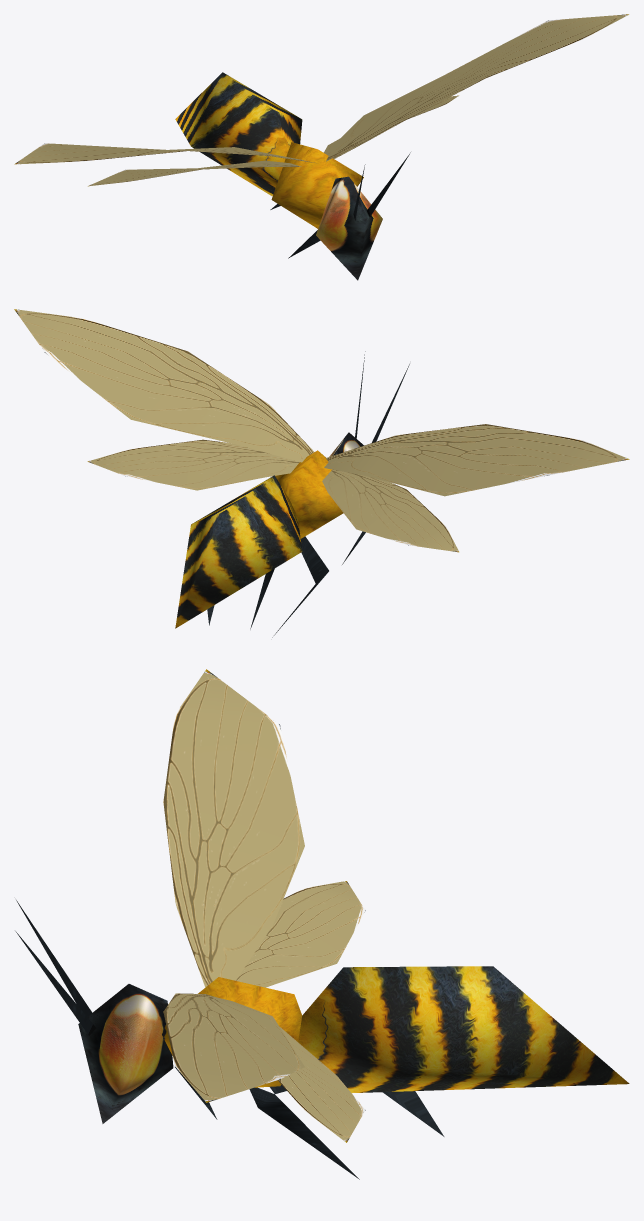
Rendered from Particle Bee UltraLowPoly Mdl.fbx.
The picture shows the model from 3 angles, top to bottom: view 1: azimuth 30°, elevation 25°; view 2: azimuth 150°, elevation 25°; view 3: azimuth 270°, elevation 25°; orthographic projection. The views are drawn at different scales.
Visible parts, largest first — view 1: ParticleBeeMesh_UltraLowPoly; view 2: ParticleBeeMesh_UltraLowPoly; view 3: ParticleBeeMesh_UltraLowPoly.
Boxes of the visible parts, x1,y1,x2,y2 form: ParticleBeeMesh_UltraLowPoly: (14, 14, 628, 280); ParticleBeeMesh_UltraLowPoly: (14, 309, 629, 637); ParticleBeeMesh_UltraLowPoly: (15, 669, 629, 1179).
Size of the model in its own units: 10.46 by 3.46 by 6.28.
